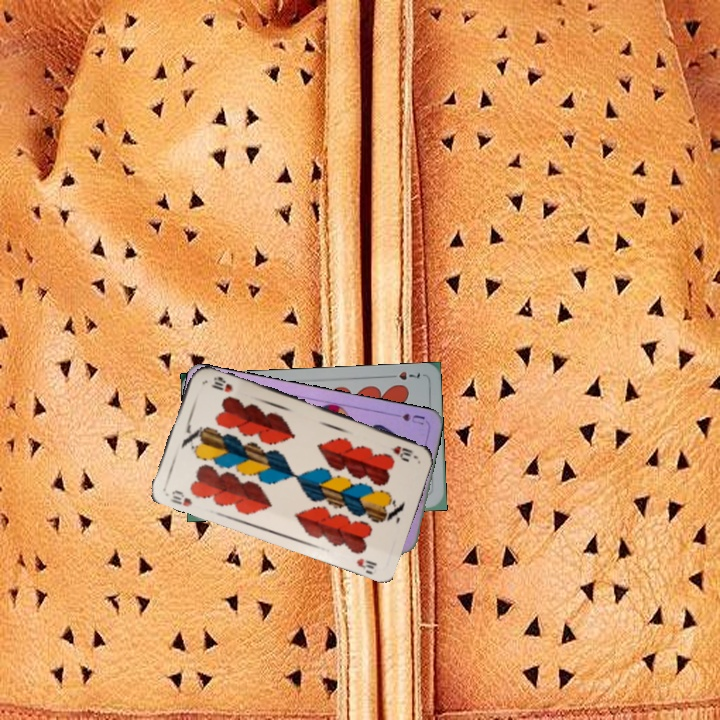H10: (167, 486, 195, 509), (386, 441, 416, 459)
H7: (384, 367, 423, 382)
SU: (387, 409, 428, 428)
